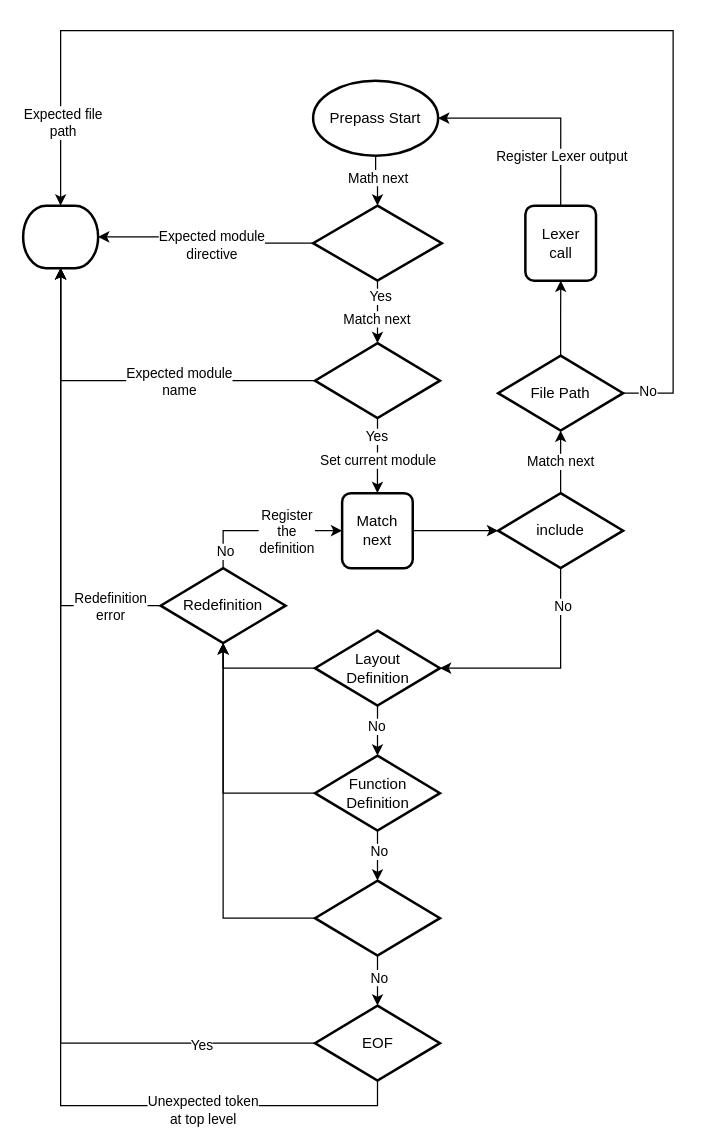
Some shapes in this 705 by 1148 pixel diagram are drawn without their labels. Each missing label, with the centre of its shape:
End Prepass: point 60,236
identifier: point 377,380
module: point 376,242
Variable Definition: point 377,917
